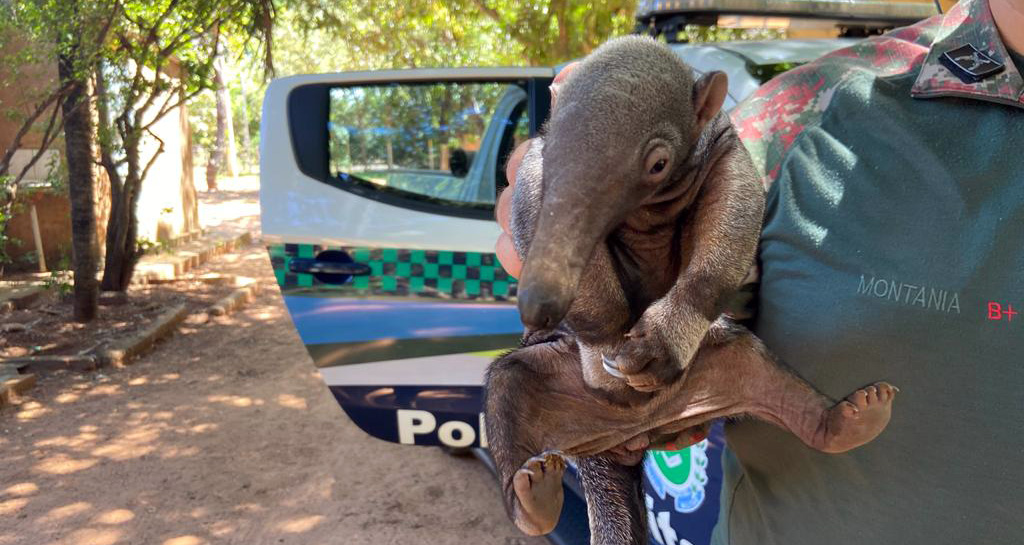TamanduaBandeira: (476, 27, 906, 536)
